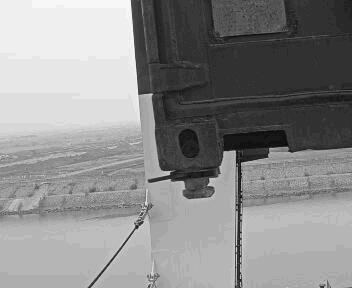twist_lock_1: (154, 163, 213, 208)
